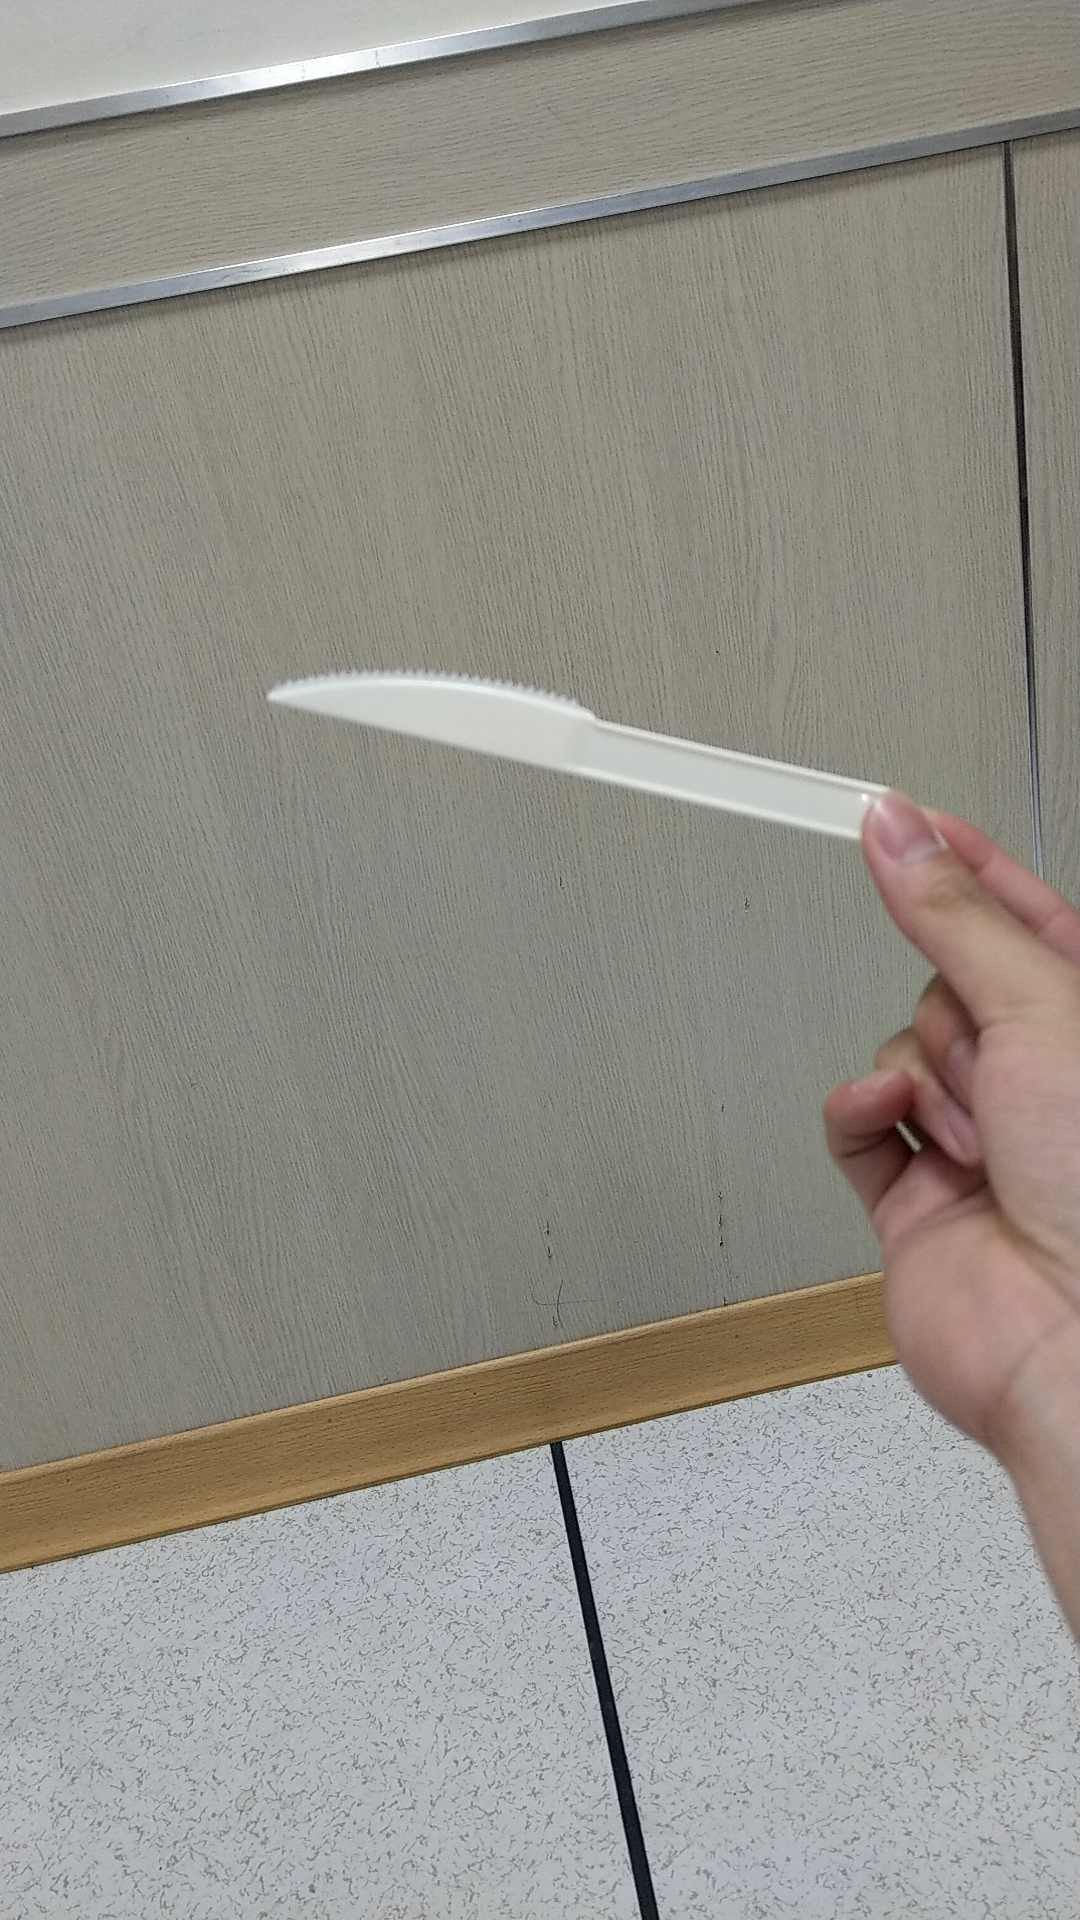knife: (233, 593, 872, 872)
